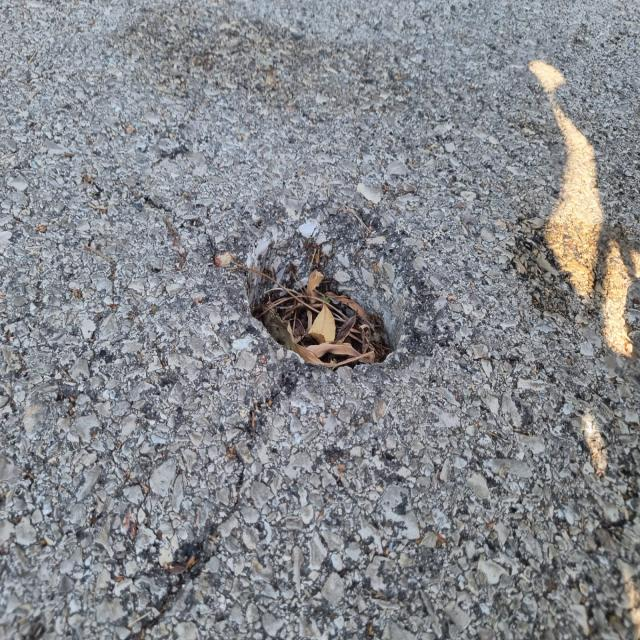medium_pothole: (243, 209, 416, 377)
